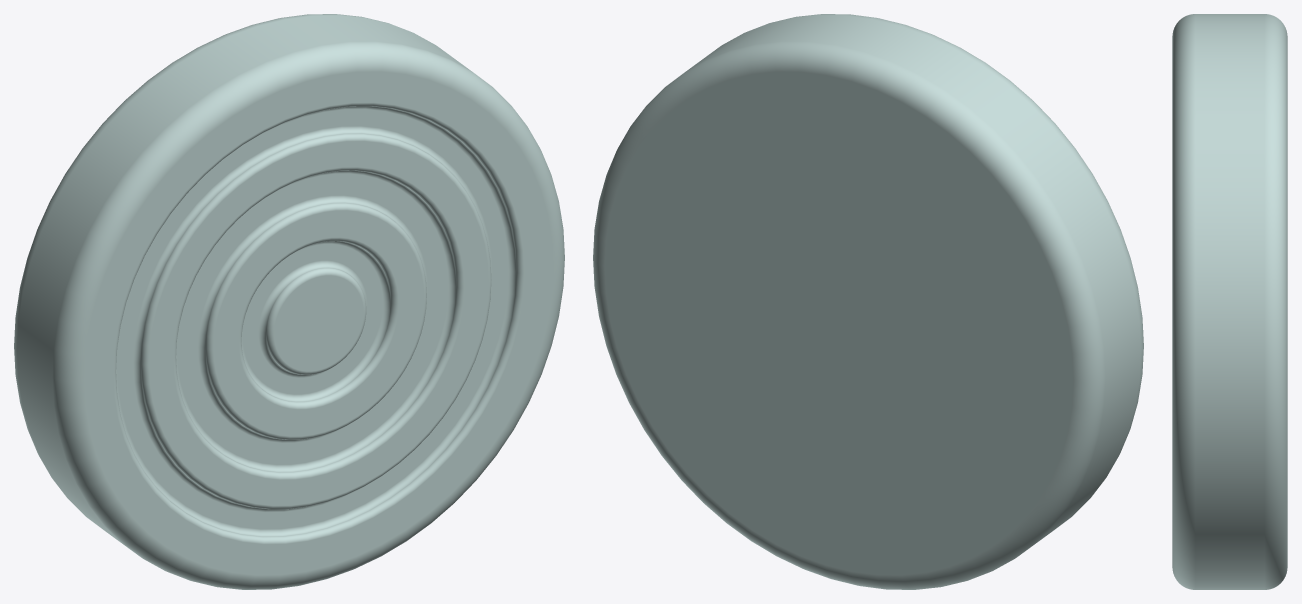
Rendered from CheckersPiece3.gltf.
The picture shows the model from 3 angles, left to right: view 1: azimuth 30°, elevation 25°; view 2: azimuth 150°, elevation 25°; view 3: azimuth 270°, elevation 25°; orthographic projection. The views are drawn at different scales.
Visible parts, largest first — view 1: Part 1; view 2: Part 1; view 3: Part 1.
Part boxes in pixels (bbox=[...]): Part 1: bbox=[14, 14, 564, 589]; Part 1: bbox=[593, 14, 1143, 589]; Part 1: bbox=[1172, 14, 1287, 589].
Bounding box in the file's own units: 0.0501 × 0.05 × 0.01.
